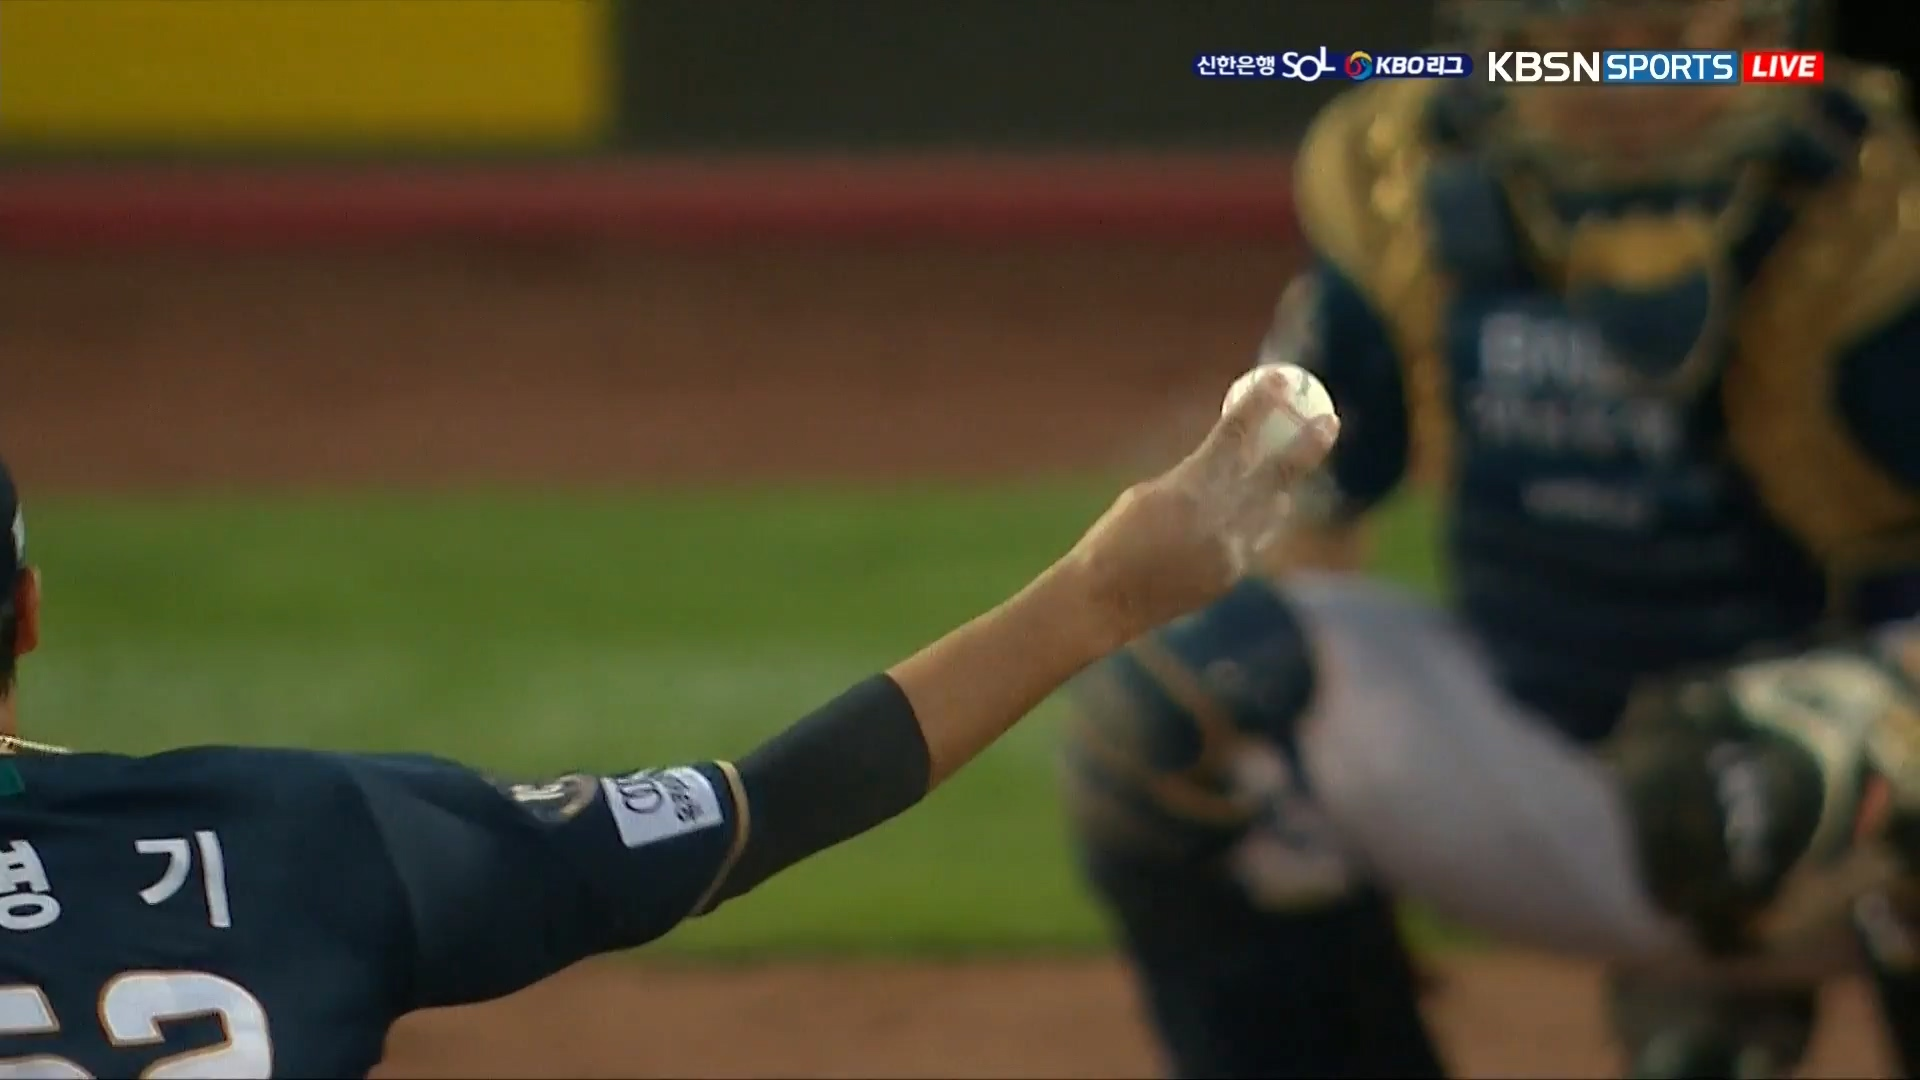zoomin_hand: (725, 357, 1346, 909)
